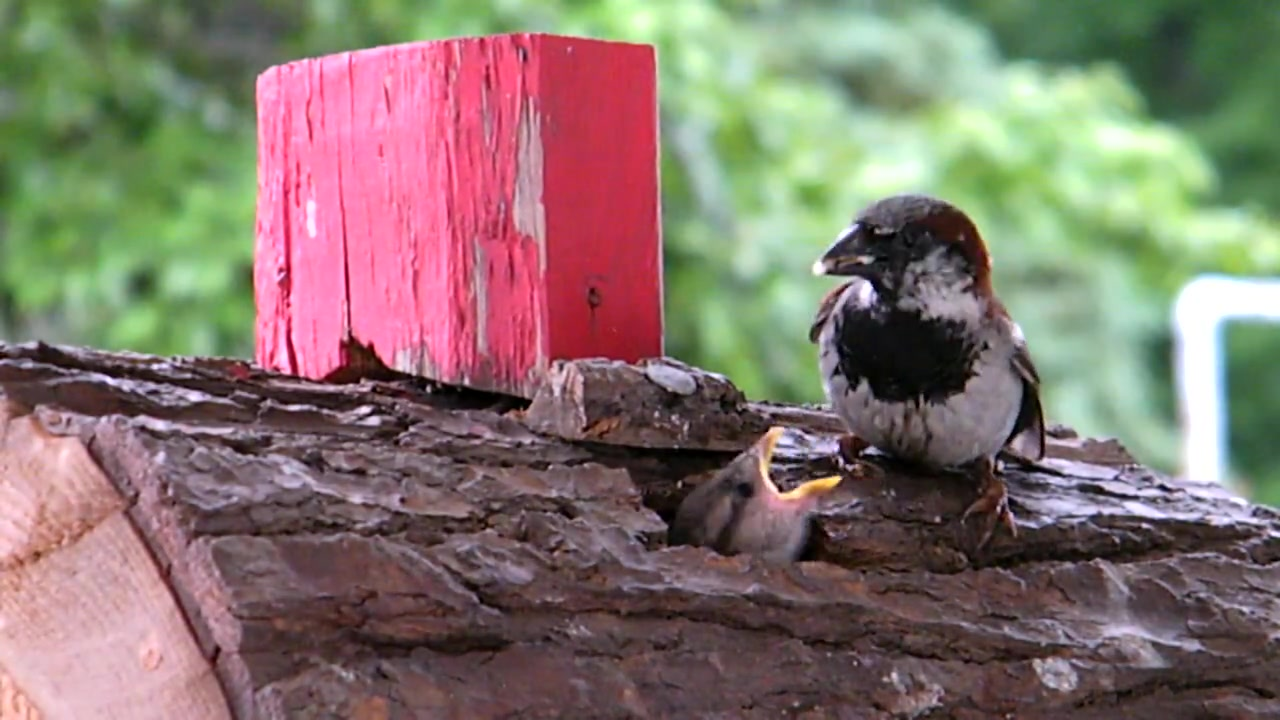bird: (811, 194, 1048, 547)
